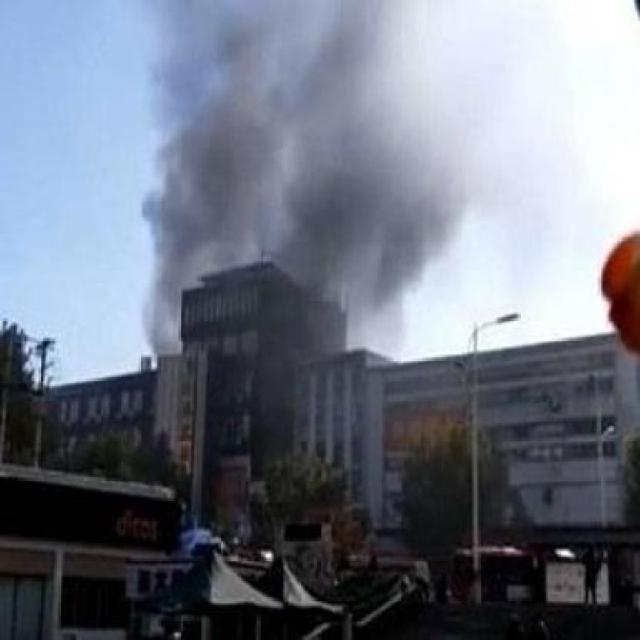Smoke: (156, 26, 434, 327)
